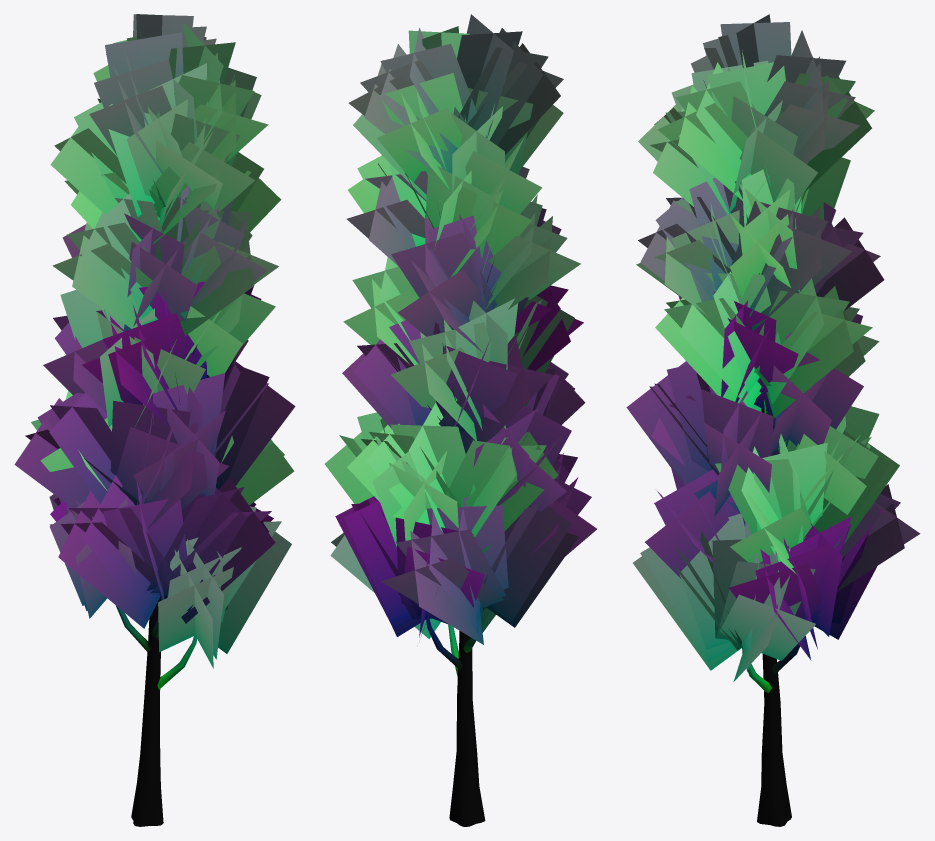
Rendered from Tree_9_2.fbx.
The picture shows the model from 3 angles, left to right: view 1: azimuth 30°, elevation 25°; view 2: azimuth 150°, elevation 25°; view 3: azimuth 270°, elevation 25°; orthographic projection.
Visible parts, largest first — view 1: _2; view 2: _2; view 3: _2.
Boxes of the visible parts, bbox=[...] form: _2: bbox=[14, 14, 295, 826]; _2: bbox=[325, 14, 596, 826]; _2: bbox=[626, 14, 920, 826].
Size of the model in its own units: 687 by 2034 by 681.
